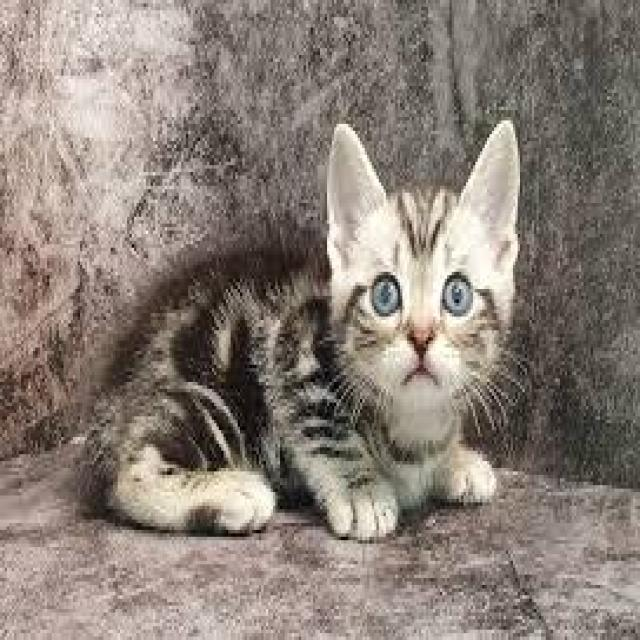cat-face: (260, 70, 570, 493)
